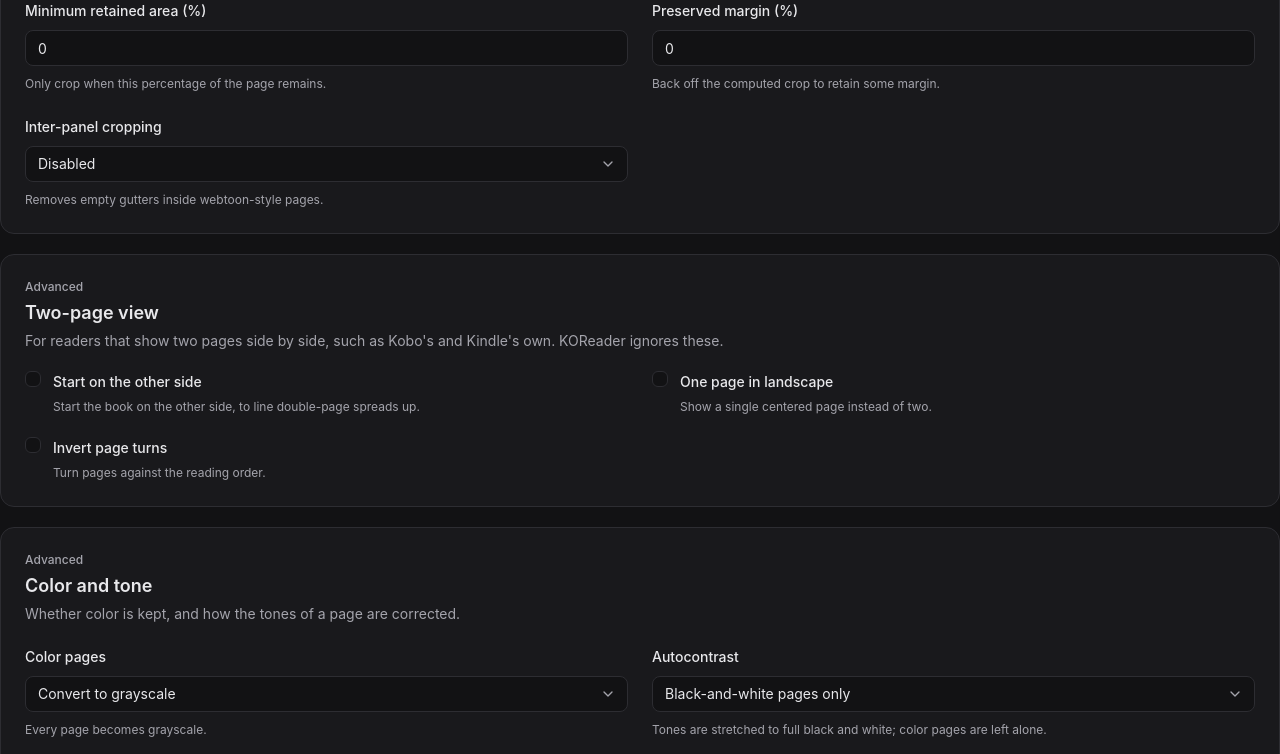
mangapress settings editor › offers the two-page view only for an EPUB
(page scrolled)
Click the checkbox named "Start on the other side" next to "Start on the other side" at (33, 379), box x1=25 y1=371 x2=41 y2=387
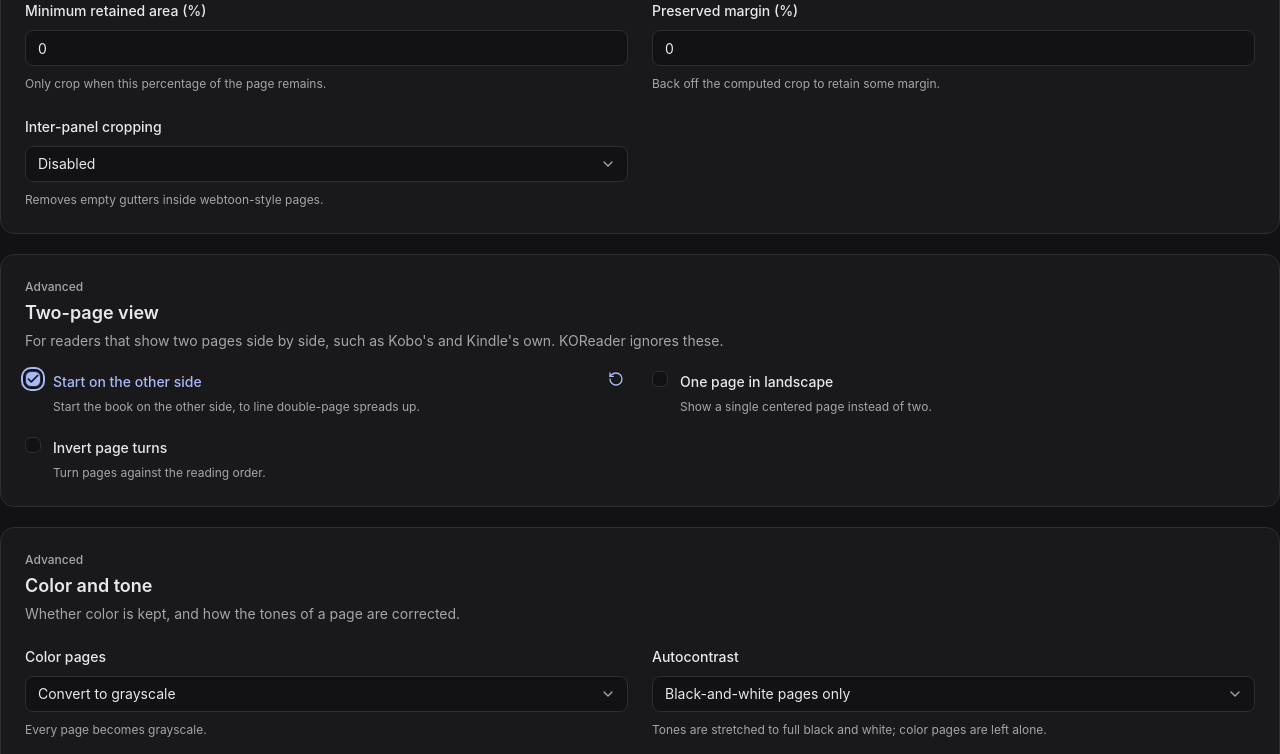
Click the checkbox named "One page in landscape" next to "One page in landscape" at (660, 379), box x1=652 y1=371 x2=668 y2=387
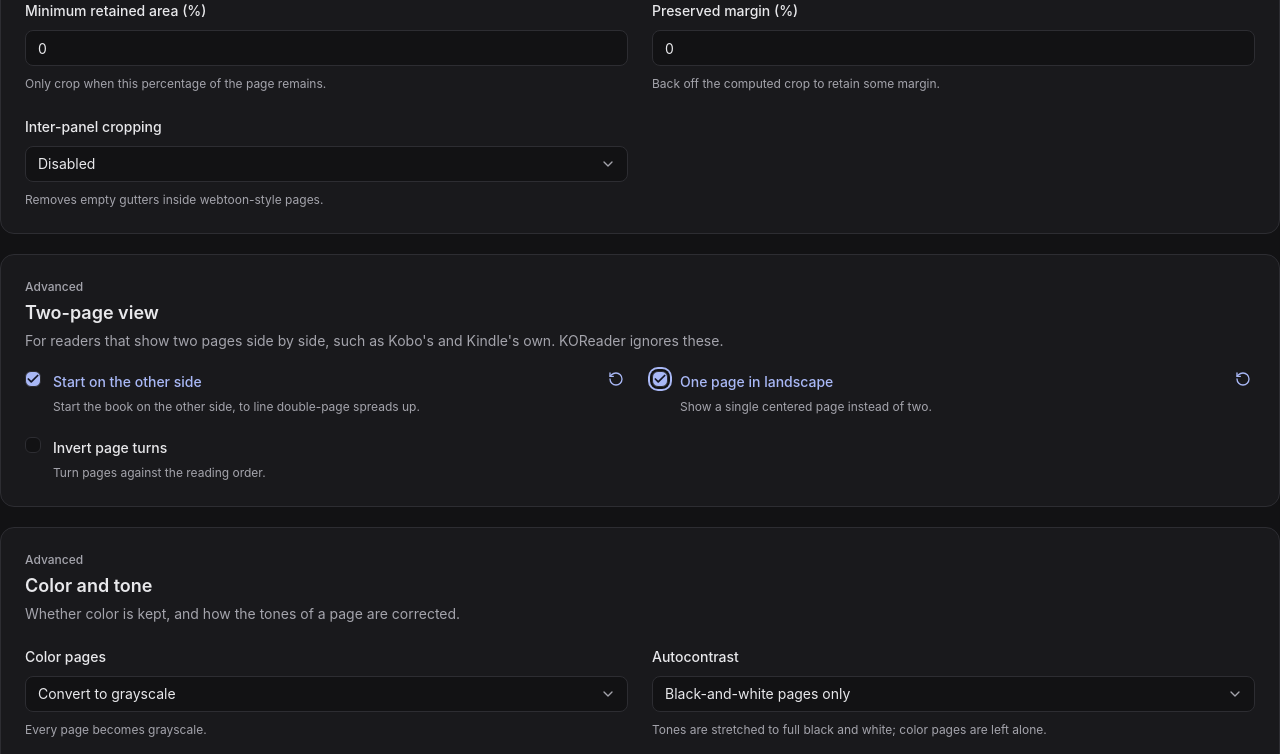
Click the checkbox named "Invert page turns" next to "Invert page turns" at (33, 444), box x1=25 y1=436 x2=41 y2=452
(page scrolled)
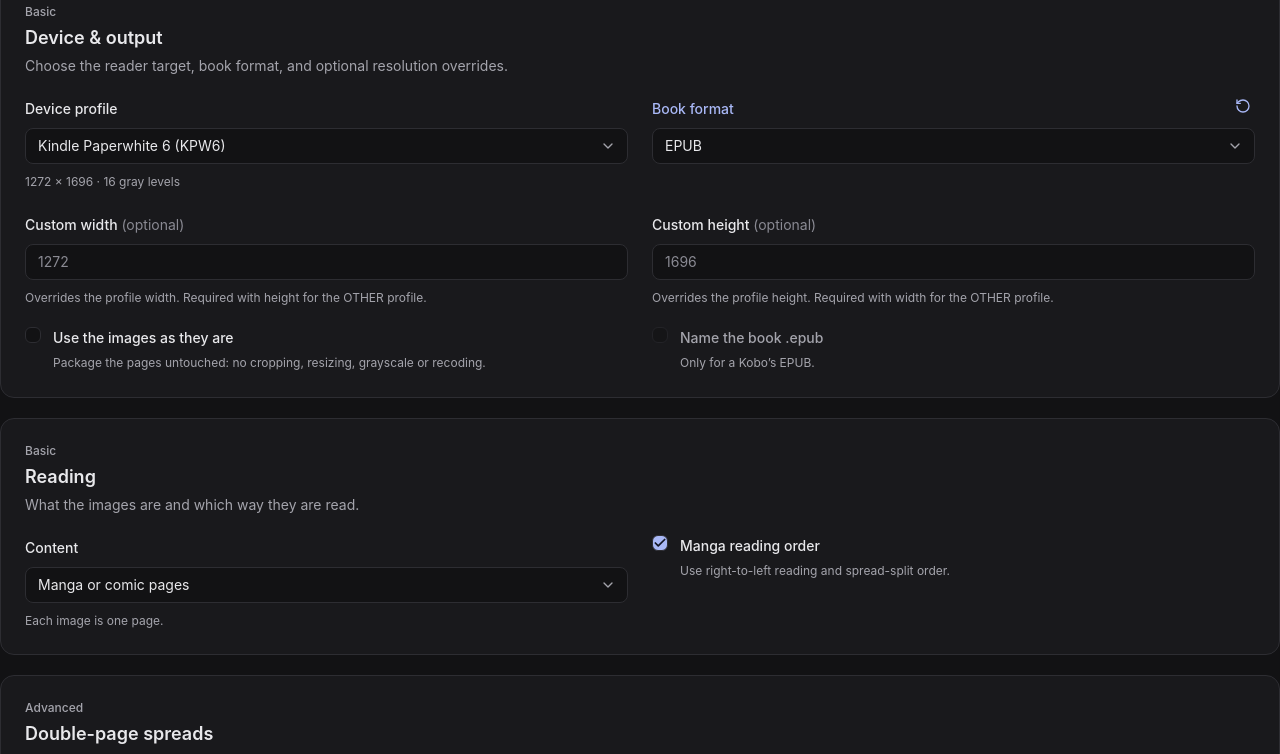
Select "PDF" in the dropdown labelled "Book format" at (954, 146), box x1=652 y1=128 x2=1255 y2=164
(page scrolled)
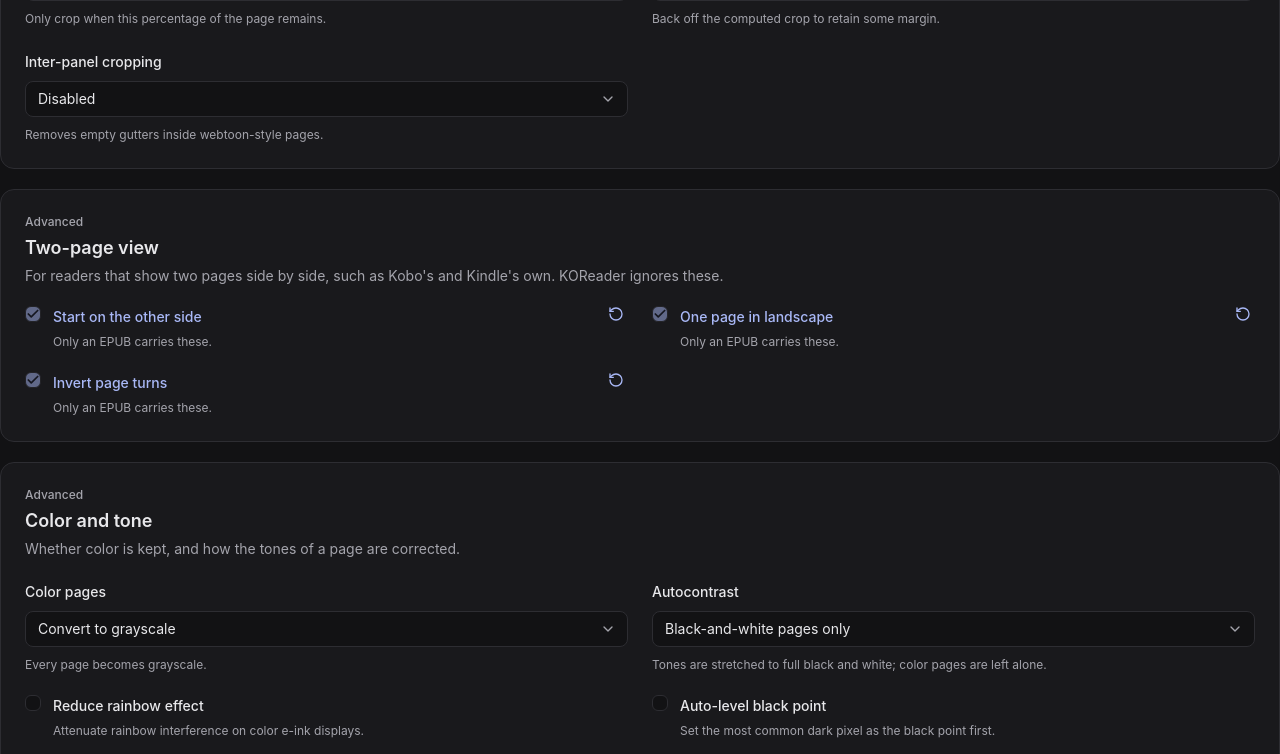
Now the checkbox named "Start on the other side" next to "Start on the other side" is disabled, box x1=25 y1=306 x2=41 y2=322
Now the checkbox named "One page in landscape" next to "One page in landscape" is disabled, box x1=652 y1=306 x2=668 y2=322
Now the checkbox named "Invert page turns" next to "Invert page turns" is disabled, box x1=25 y1=372 x2=41 y2=388
